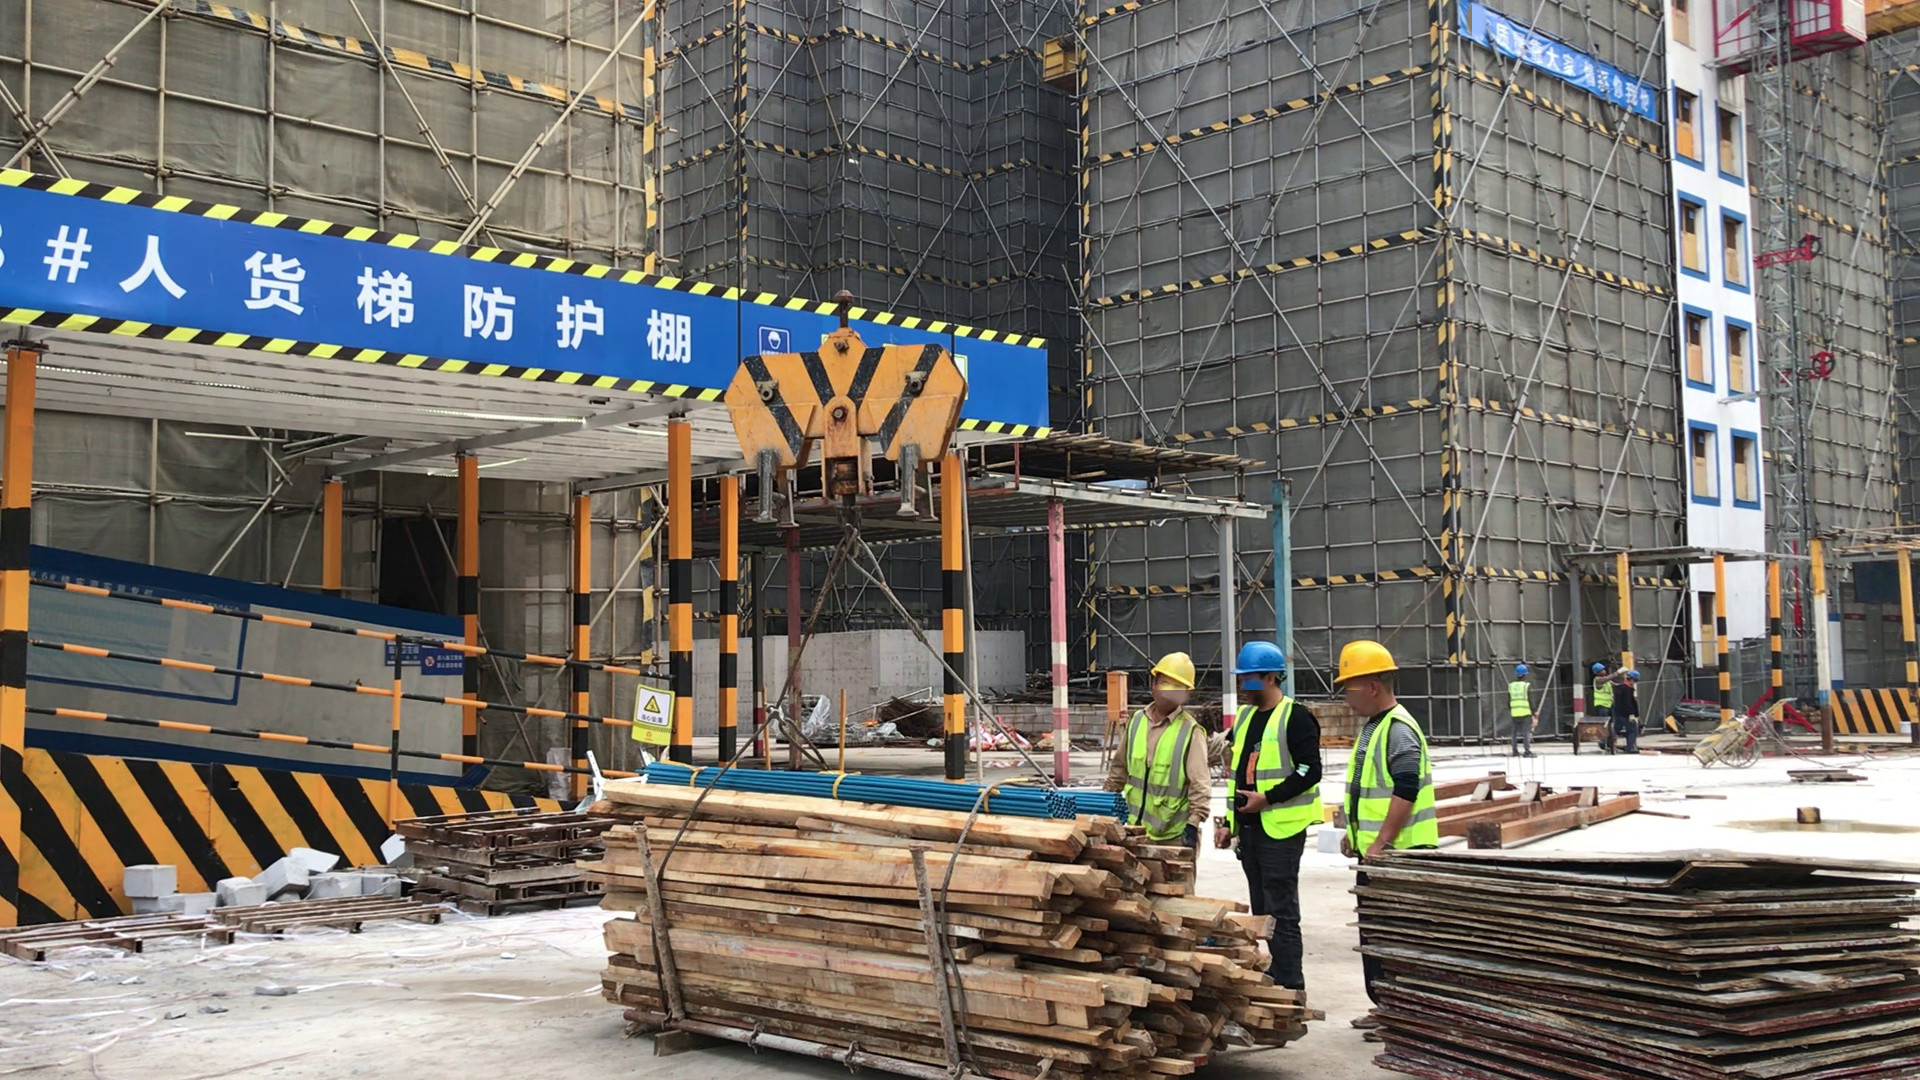helmet: (1333, 639, 1397, 679), (1234, 641, 1284, 674), (1150, 651, 1196, 686), (1513, 664, 1529, 675), (1628, 669, 1642, 681), (1589, 662, 1604, 672)
person: (1218, 642, 1325, 1019), (1333, 634, 1448, 858), (1110, 652, 1215, 867), (1503, 656, 1543, 756), (1609, 669, 1644, 749), (1590, 662, 1615, 721)
vest: (1345, 707, 1437, 852), (1232, 702, 1321, 840), (1124, 704, 1196, 839), (1508, 680, 1532, 717), (1594, 678, 1611, 710)
